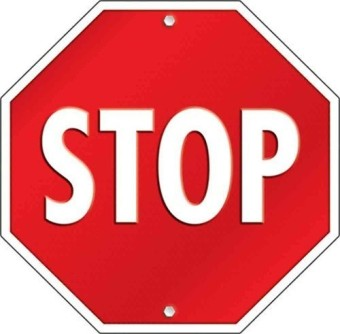SS: (8, 2, 340, 334)
